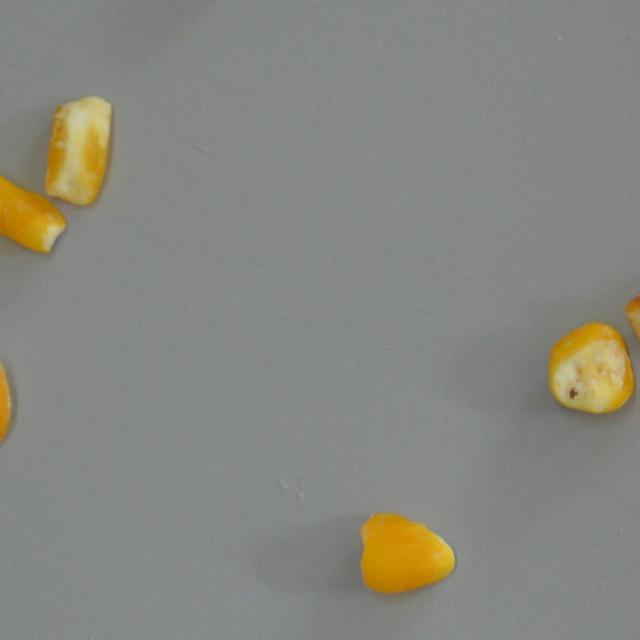dañado: (0, 344, 18, 462), (624, 261, 640, 354)
estandar: (354, 508, 454, 596)
pelicula: (44, 92, 114, 207), (0, 158, 70, 256)
punto_negro: (544, 316, 635, 418)
